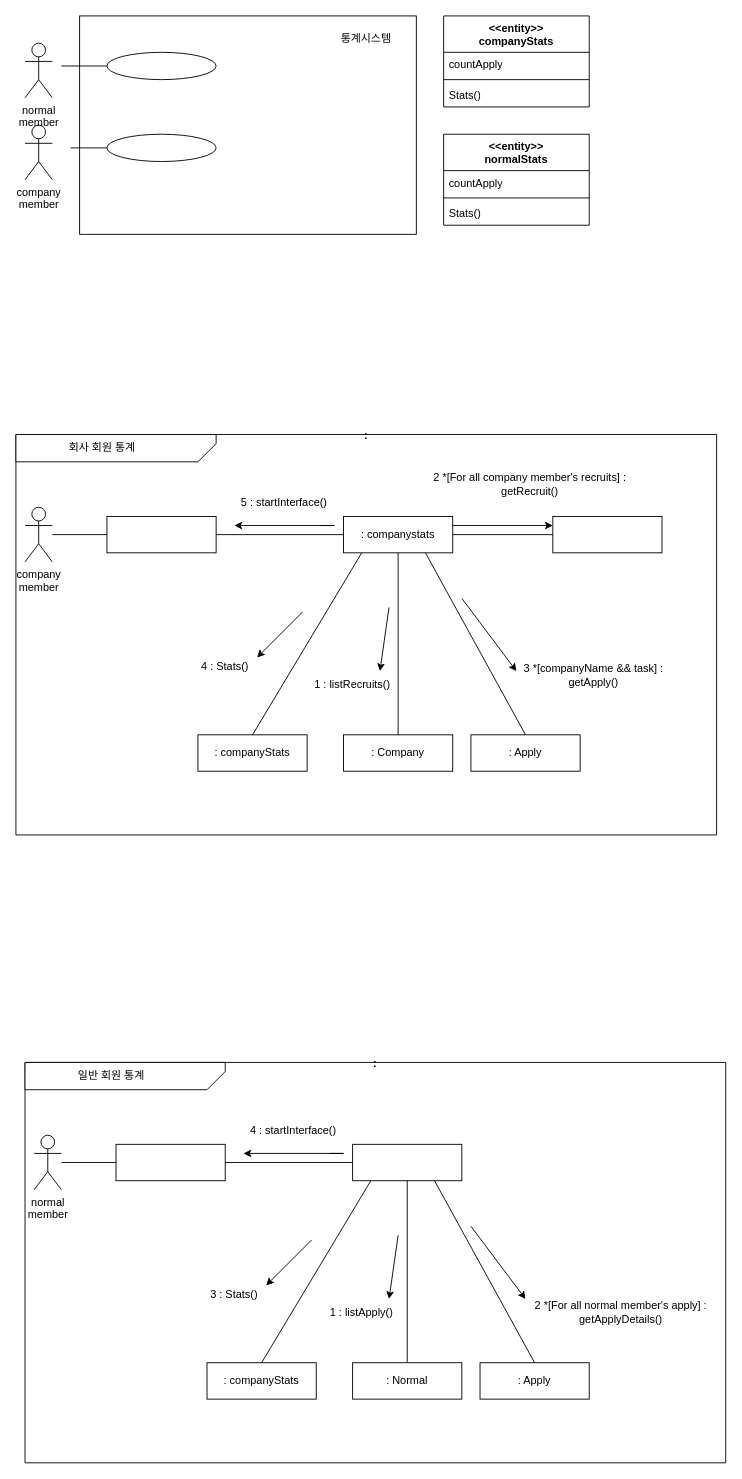
The diagram is 742 pixels wide and 1479 high, and some of its shapes have lost their labels. Here are the shapes that lost their labels. From the top down, the centre of each, then its label:
At point (161, 65): "일반회원 통계".
At point (161, 147): "회사회원 통계".
At point (161, 534): ": companystatsUI".
At point (607, 534): ": Recruit".
At point (170, 1162): ": normalstatsUI".
At point (407, 1162): ": normalstats".
